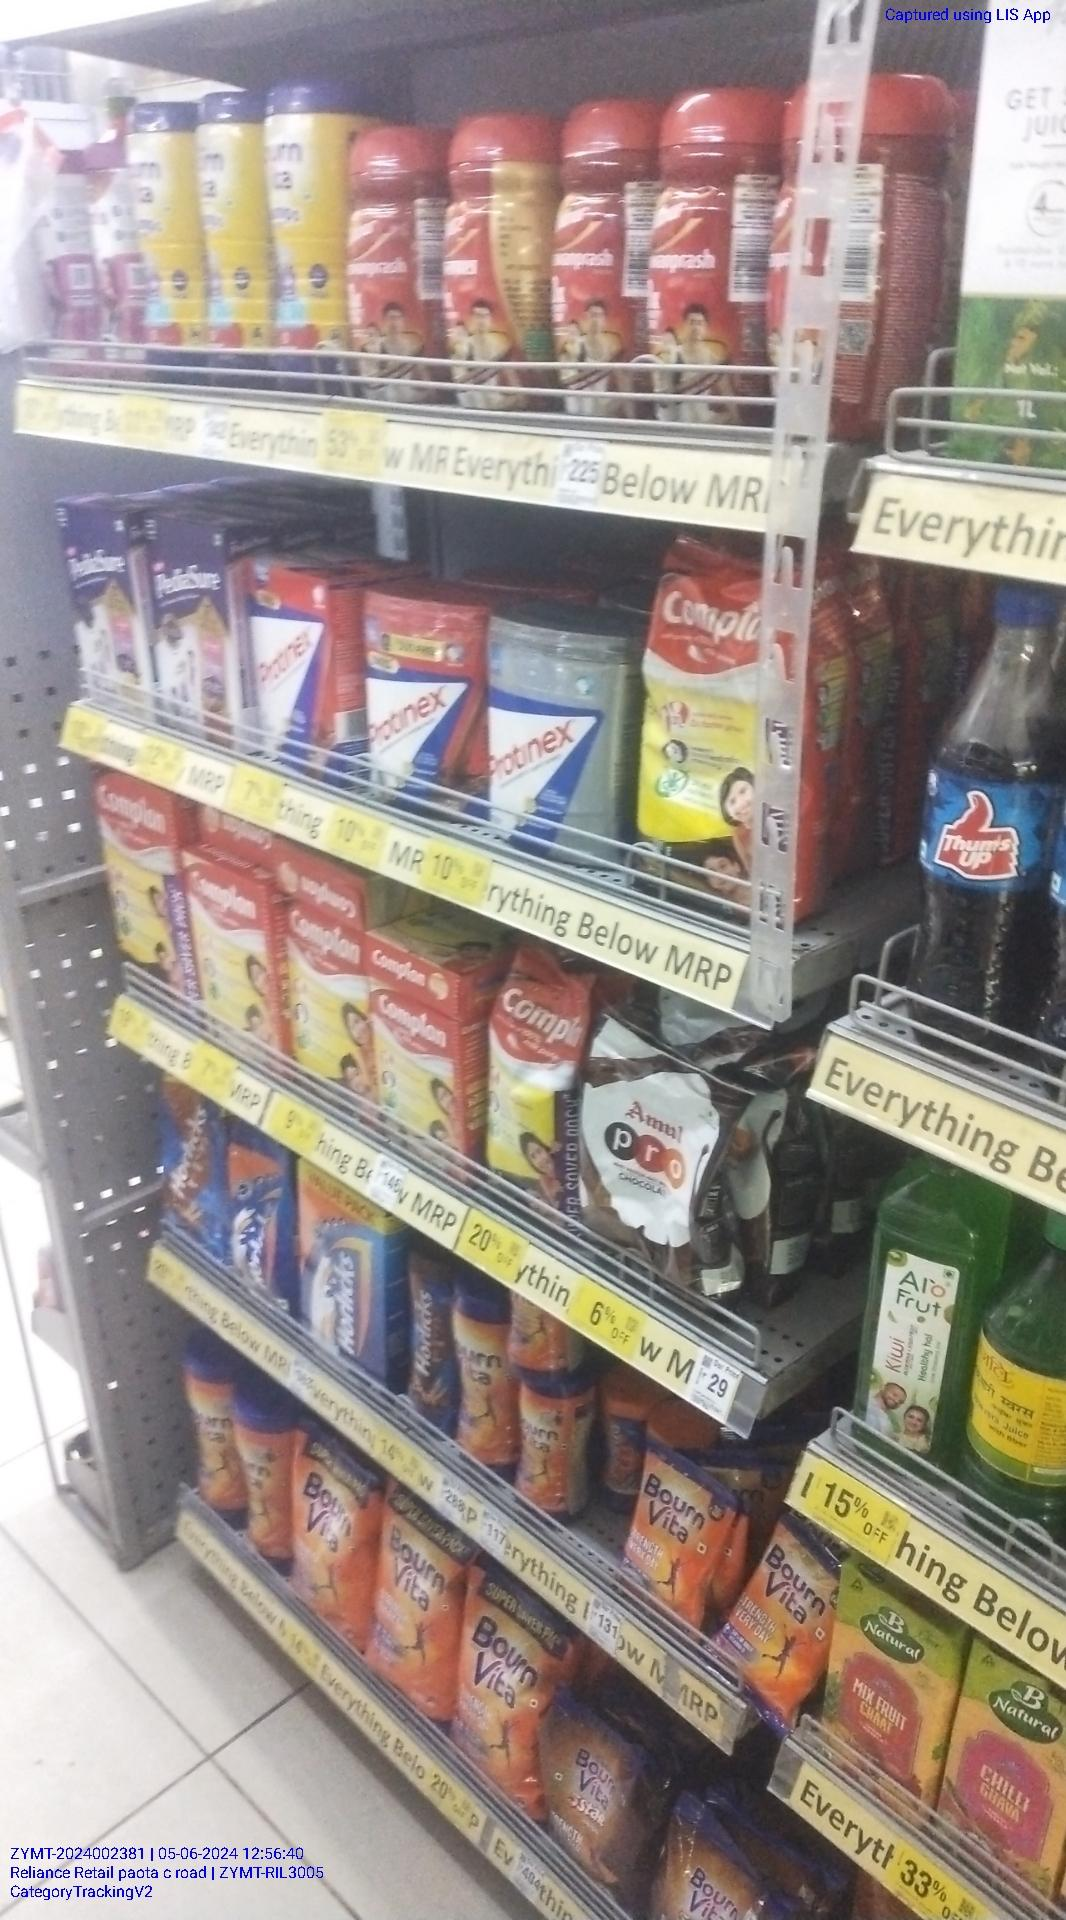BOURN_VITA_CHAMPS_500_G_JAR: (264, 84, 349, 400), (125, 101, 190, 394), (197, 93, 257, 399)
COMPLAN_KESAR_BADAM_200_GMS_PACK: (375, 993, 454, 1147)
